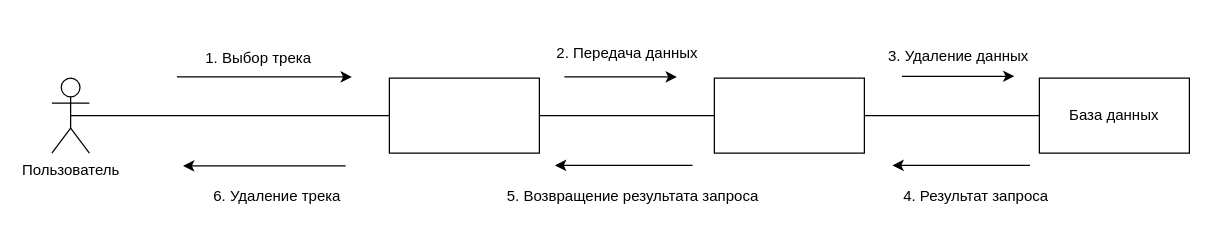
Some shapes in this 1211 by 238 pixel diagram are drawn without their labels. Here are the shapes that lost their labels. From the top down, the box of each, then its label:
(388, 77, 539, 153): Клиент
(713, 77, 864, 153): Сервер
